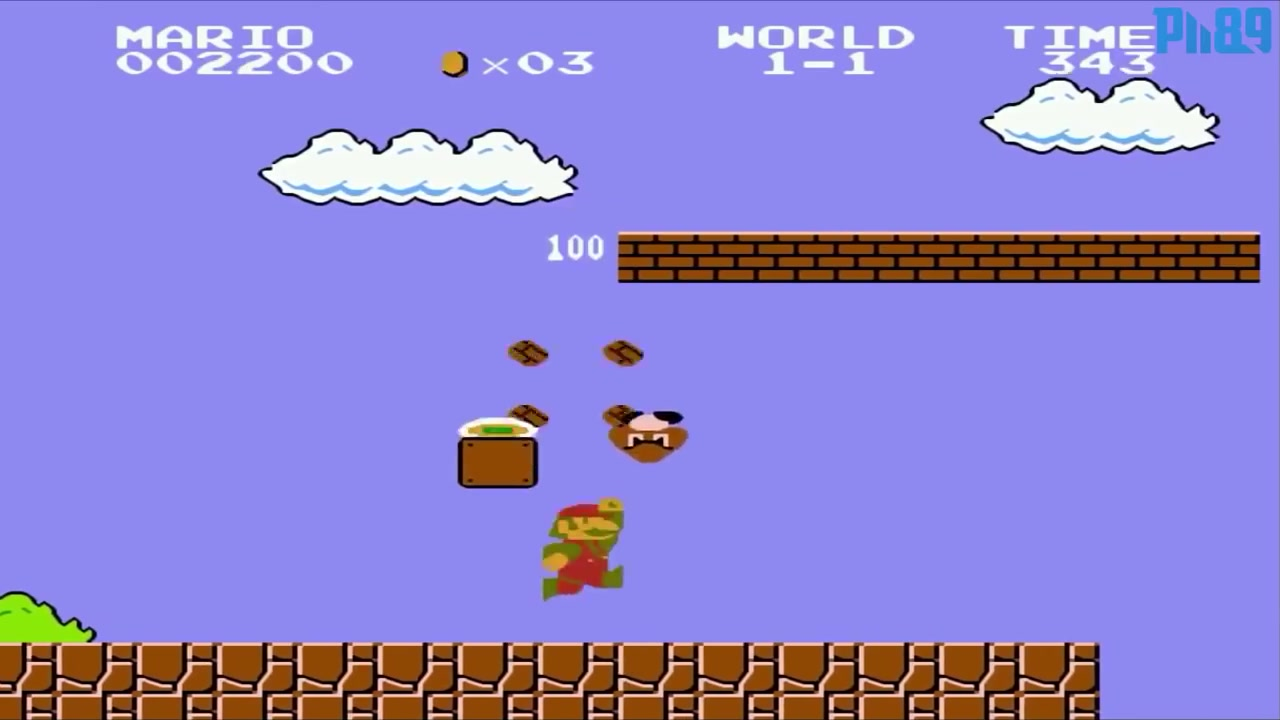mario: (536, 489, 627, 609)
